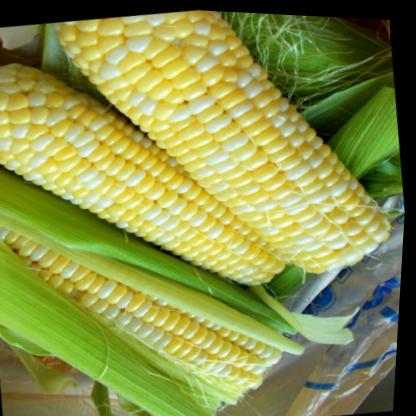---: (42, 2, 412, 307), (0, 19, 315, 324)
